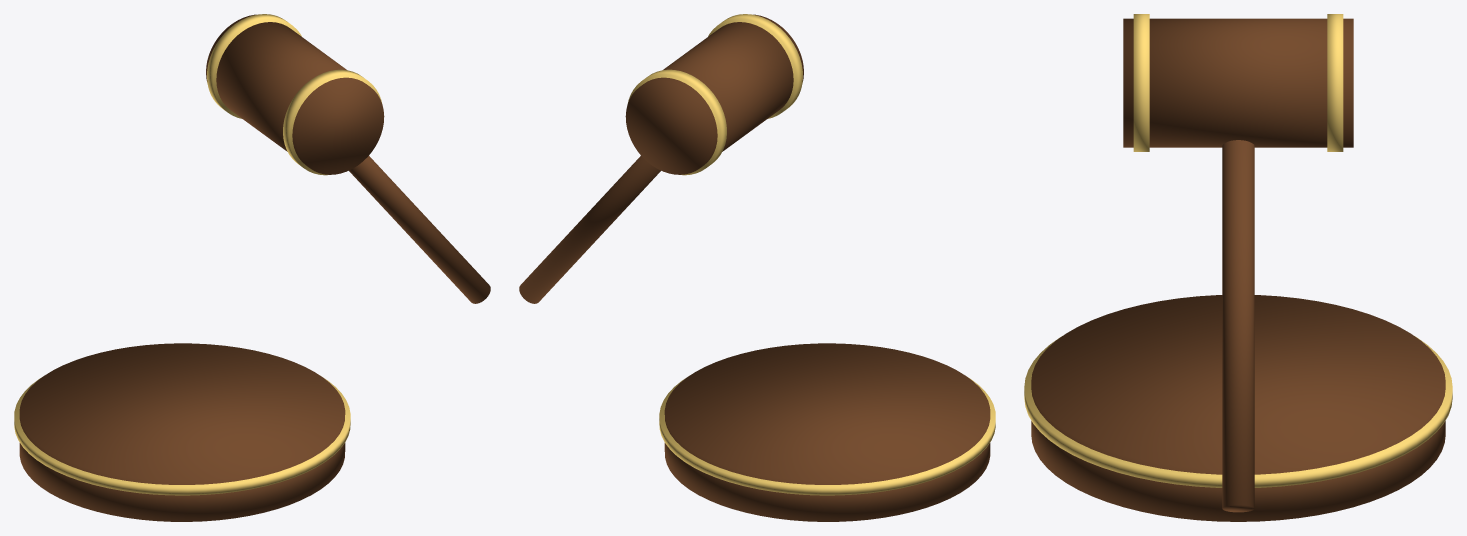
File: gavel.glb
3 views of the same model, side by side, from view 1: azimuth 30°, elevation 25°; view 2: azimuth 150°, elevation 25°; view 3: azimuth 270°, elevation 25° (orthographic). The views are drawn at different scales.
Visible parts, largest first — view 1: Block, Cylinder.001, Cylinder.004, Cylinder, Cylinder.002, Cylinder.003; view 2: Block, Cylinder.001, Cylinder.004, Cylinder, Cylinder.003, Cylinder.002; view 3: Block, Cylinder.001, Cylinder.004, Cylinder, Cylinder.002, Cylinder.003.
Part boxes in pixels (box(x1,y1,x2,y2)): Block: box(19, 343, 345, 521); Cylinder.001: box(206, 14, 384, 174); Cylinder.004: box(349, 156, 490, 303); Cylinder: box(14, 377, 350, 495); Cylinder.002: box(283, 69, 382, 175); Cylinder.003: box(207, 14, 301, 118); Block: box(664, 343, 990, 521); Cylinder.001: box(625, 14, 803, 174); Cylinder.004: box(519, 156, 660, 303); Cylinder: box(659, 377, 995, 495); Cylinder.003: box(627, 69, 726, 175); Cylinder.002: box(708, 14, 802, 118); Block: box(1031, 295, 1445, 521); Cylinder.001: box(1123, 18, 1353, 147); Cylinder.004: box(1222, 140, 1254, 512); Cylinder: box(1024, 336, 1452, 487); Cylinder.002: box(1133, 14, 1149, 151); Cylinder.003: box(1327, 14, 1343, 151).
Size of the model in its own units: 2.88 by 2.32 by 1.86.
